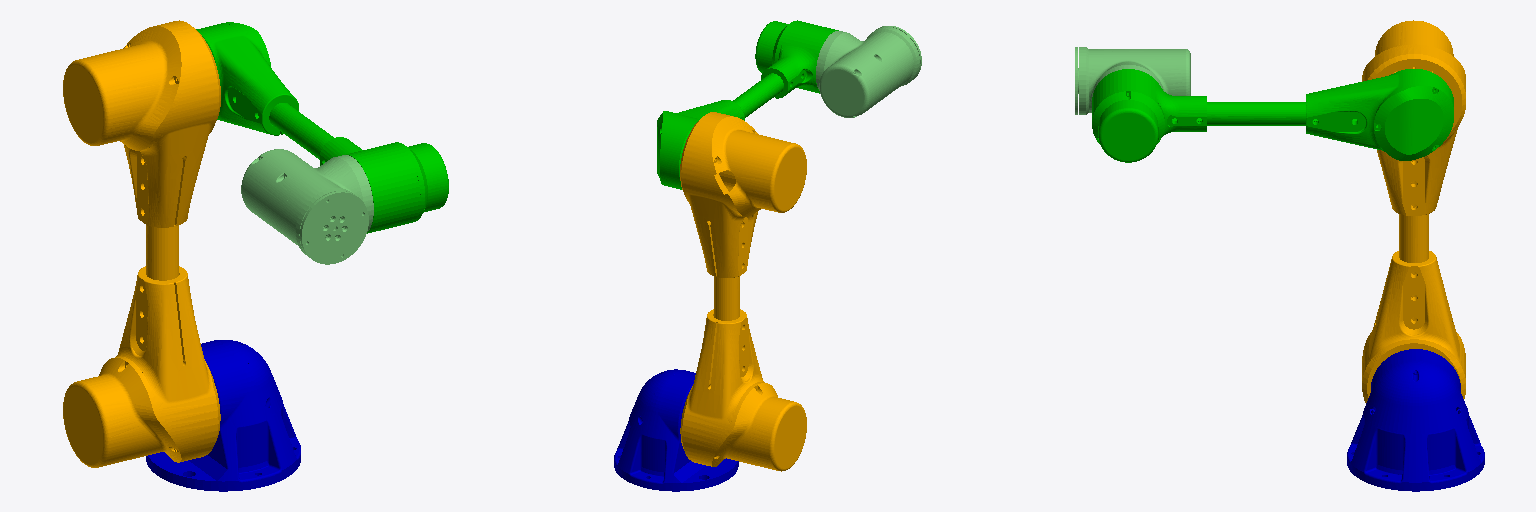
The robot description file, URDF, robot "UVicArm":
<?xml version="1.0"?>

<robot name="UVicArm">
  <material name="blue">
    <color rgba="0 0 0.8 1"/>
  </material>
  <material name="orange">
    <color rgba="1 0.7 0 1"/>
  </material>
  <material name="green">
    <color rgba="0 0.8 0 1"/>
  </material>
  <material name="rcolor">
    <color rgba="0.5 0.8 0.5 1"/>
  </material>
  <material name="rcolor2">
    <color rgba="0.7 0.3 0.2 1"/>
  </material>

  <link name="base_link">
    <visual>
      <geometry>
        <mesh filename="package://uvic_rover/rover_description/Arm/BaseMotor.STL"/>
      </geometry>
      <origin rpy="1.57075 0 0" xyz="-115 115 0"/>
    </visual>
    <collision>
      <geometry>
        <mesh filename="package://uvic_rover/rover_description/Arm/BaseMotor.STL"/>
      </geometry>
      <origin rpy="1.57075 0 0" xyz="-115 115 0"/>
    </collision>
  </link>

  <link name="base_component">
    <visual>
      <geometry>
        <mesh filename="package://uvic_rover/rover_description/Arm/BaseComponent.STL"/>
      </geometry>
      <material name="blue"/>
      <origin rpy="0 0 0" xyz="-70.5 0 -70.5"/>
    </visual>
    <collision>
      <geometry>
        <mesh filename="package://uvic_rover/rover_description/Arm/BaseComponent.STL"/>
      </geometry>
      <origin rpy="0 0 0" xyz="-70.5 0 -70.5"/>
    </collision>
    <inertial>
      <origin xyz="0 0 0" rpy="0 0 0"/>
      <mass value="1.8"/>
      <inertia ixx="0.001" ixy="0.0" ixz="0.0" iyy="0.001" iyz="0.0" izz="0.001"/>
    </inertial>
  </link>

  <link name="shoulder">
    <visual>
      <geometry>
        <mesh filename="package://uvic_rover/rover_description/Arm/Shoulder.STL"/>
      </geometry>
      <origin rpy="-1.57075 0 1.57075" xyz="15.5 -55 55"/>
      <material name="orange"/>
    </visual>
    <collision>
      <geometry>
        <mesh filename="package://uvic_rover/rover_description/Arm/Shoulder.STL"/>
      </geometry>
      <origin rpy="-1.57075 0 1.57075" xyz="15.5 -55 55"/>
    </collision>
    <inertial>
      <origin xyz="0 0 0" rpy="0 0 0"/>
      <mass value="1.1"/>
      <inertia ixx="0.001" ixy="0.0" ixz="0.0" iyy="0.001" iyz="0.0" izz="0.001"/>
    </inertial>
  </link>

  <link name="elbow_link">
    <visual>
      <geometry>
        <mesh filename="package://uvic_rover/rover_description/Arm/ElbowLink2.STL"/>
      </geometry>
      <material name="green"/>
      <origin rpy="0 0 0" xyz="-95.5 -162 -71"/>
    </visual>
    <collision>
      <geometry>
        <mesh filename="package://uvic_rover/rover_description/Arm/ElbowLink2.STL"/>
      </geometry>
      <origin rpy="0 0 0" xyz="-95.5 -162 -71"/>
    </collision>
    <inertial>
      <origin xyz="0 0 0" rpy="0 0 0"/>
      <mass value="1.1"/>
      <inertia ixx="0.001" ixy="0.0" ixz="0.0" iyy="0.001" iyz="0.0" izz="0.001"/>
    </inertial>
  </link>

  <link name="wrist_link">
    <visual>
      <geometry>
        <mesh filename="package://uvic_rover/rover_description/Arm/Wrist.STL"/>
      </geometry>
      <material name="rcolor"/>
      <origin rpy="0 0 0" xyz="-59.1 -66.8 -89.5"/>
    </visual>
    <collision>
      <geometry>
        <mesh filename="package://uvic_rover/rover_description/Arm/Wrist.STL"/>
      </geometry>
      <origin rpy="0 0 0" xyz="-59.1 -66.8 -89.5"/>
    </collision>
    <inertial>
      <origin xyz="0 0 0" rpy="0 0 0"/>
      <mass value="0.382"/>
      <inertia ixx="0.001" ixy="0.0" ixz="0.0" iyy="0.001" iyz="0.0" izz="0.001"/>
    </inertial>
  </link>

  <link name="gripper">
    <visual>
      <geometry>
        <mesh filename="package://uvic_rover/rover_description/Arm/Gripper.STL"/>
      </geometry>
      <origin rpy="0 3.14 0 " xyz="6 -34.8 80 "/>
      <material name="rcolor2"/>
    </visual>
    <collision>
      <geometry>
        <mesh filename="package://uvic_rover/rover_description/Arm/Gripper.STL"/>
      </geometry>
      <origin rpy="0 3.14 0 " xyz="6 -34.8 80 "/>
    </collision>
    <inertial>
      <origin xyz="0 0 0" rpy="0 0 0"/>
      <mass value="0.250"/>
      <inertia ixx="0.001" ixy="0.0" ixz="0.0" iyy="0.001" iyz="0.0" izz="0.001"/>
    </inertial>
  </link>

  <joint name="base_motor_to_base" type="continuous">
    <parent link="base_link"/>
    <child link="base_component"/>
    <origin rpy="1.57075  0 0" xyz="0 0 210"/>
    <axis xyz="0 1 0"/>
  </joint>

  <joint name="base_to_shoulder" type="continuous">
    <parent link="base_component"/>
    <child link="shoulder"/>
      <origin rpy="0 0 0" xyz="-40 70 0"/>
      <axis xyz="1 0 0"/>

  </joint>

  <joint name="shoulder_to_elbow" type="continuous">
    <parent link="shoulder"/>
    <child link="elbow_link"/>
    <origin rpy="0 0 0" xyz="0 320 0"/>
    <axis xyz="1 0 0"/>
  </joint>

  <joint name="elbow_to_wrist" type="continuous">
    <parent link="elbow_link"/>
    <child link="wrist_link"/>
    <origin rpy="-3.14 1.57075 0" xyz=" 0 -1.5 291.5"/>
        <axis xyz="0 0 1"/>
  </joint>

  <joint name="wrist_to_gripper" type="continuous">
    <parent link="wrist_link"/>
    <child link="gripper"/>
    <origin rpy="0 0 0" xyz="-60 0 44 "/>
    <axis xyz="1 0 0"/>
  </joint>

  <!-- Gazebo plugin for ROS Control -->
  <gazebo>
    <plugin name="gazebo_ros_control" filename="libgazebo_ros_control.so">
      <robotNamespace>/</robotNamespace>
    </plugin>
  </gazebo>

</robot>

--- What the picture shows (computed from the rendered views, not written in the file) ---
Views: 3 orthographic renders of the robot side by side, from view 1: azimuth 30°, elevation 25°; view 2: azimuth 150°, elevation 25°; view 3: azimuth 270°, elevation 25°.
Model UVicArm with 6 links and 5 joints (5 continuous), rooted at base_link, posed all joints at 0.
Links seen in each view (by area): view 1: shoulder, elbow_link, base_component, wrist_link; view 2: shoulder, base_component, elbow_link, wrist_link; view 3: elbow_link, shoulder, base_component, wrist_link.
Boxes of the visible links, bbox=[...] form: shoulder: bbox=[63, 20, 220, 467]; elbow_link: bbox=[196, 22, 448, 233]; base_component: bbox=[146, 340, 300, 491]; wrist_link: bbox=[241, 149, 373, 264]; shoulder: bbox=[680, 112, 806, 471]; base_component: bbox=[614, 369, 738, 491]; elbow_link: bbox=[657, 20, 838, 189]; wrist_link: bbox=[816, 26, 921, 117]; elbow_link: bbox=[1092, 69, 1453, 162]; shoulder: bbox=[1362, 20, 1465, 402]; base_component: bbox=[1347, 349, 1484, 491]; wrist_link: bbox=[1075, 47, 1190, 114].
Bounding box of the posed robot: 217 × 416 × 441 m (x, y, z).
4 mesh visuals loaded from 6 distinct referenced files (4 binary STL); not drawn: 2 (reference not matched to a file when rendering).